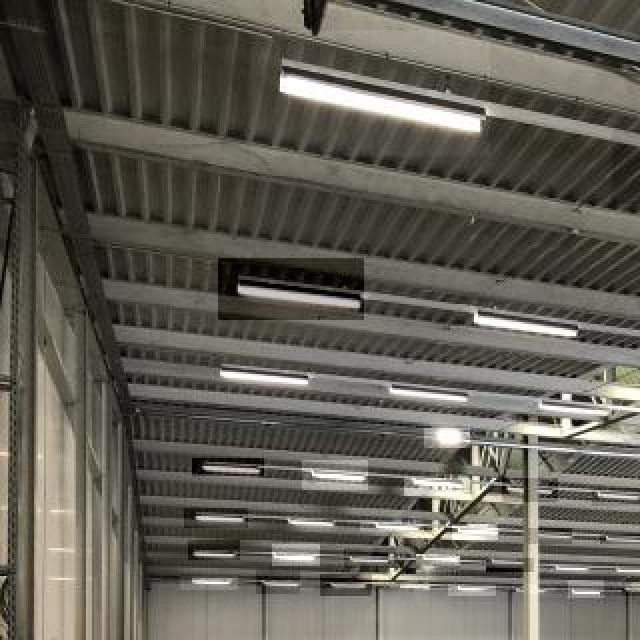fluorescent tube: (271, 49, 487, 138), (220, 267, 371, 324), (462, 298, 594, 355), (211, 366, 331, 397), (385, 378, 473, 407), (536, 394, 613, 422), (298, 466, 371, 494), (409, 475, 471, 500), (178, 509, 251, 529), (249, 571, 307, 594), (269, 544, 322, 569), (194, 460, 263, 478), (347, 549, 397, 573), (598, 482, 640, 510), (409, 549, 467, 569), (284, 516, 340, 536), (547, 555, 591, 580), (502, 478, 554, 498), (526, 531, 577, 551), (509, 581, 555, 603), (320, 575, 376, 593), (455, 522, 498, 545), (395, 576, 433, 602), (194, 544, 242, 564), (493, 555, 536, 577), (449, 582, 496, 600), (598, 530, 640, 550), (560, 582, 600, 602), (196, 577, 233, 595), (612, 558, 640, 580), (618, 582, 640, 600), (636, 132, 640, 204), (376, 526, 420, 529)
